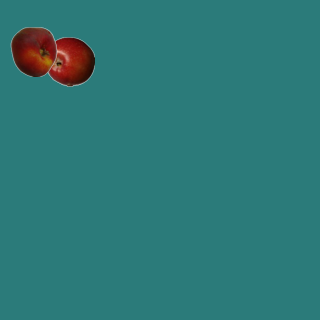Apple Braeburn: (44, 36, 94, 86)
Nectarine Flat: (8, 26, 58, 76)
